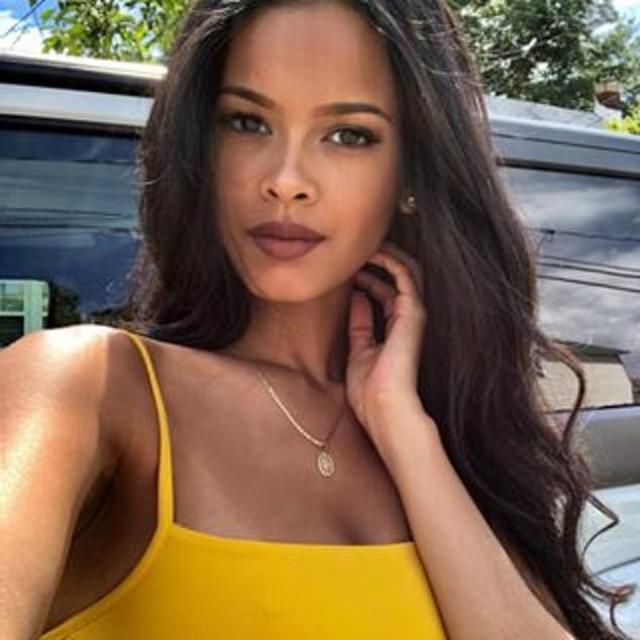human: (1, 0, 615, 640)
